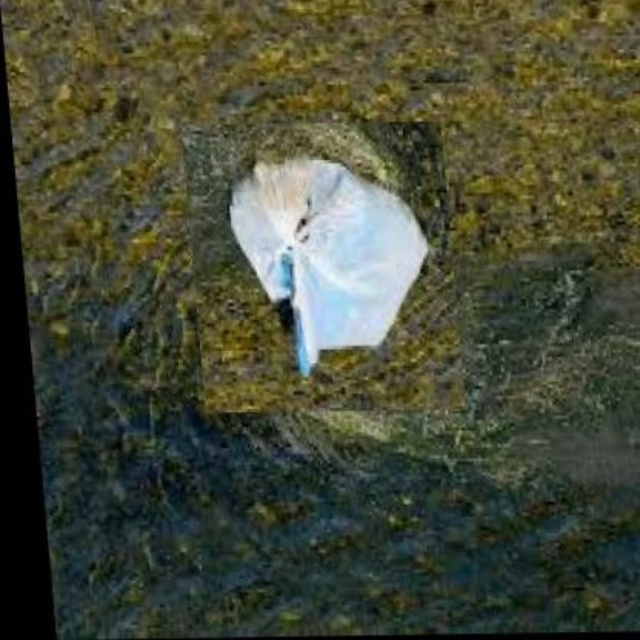trash: (229, 158, 426, 374)
